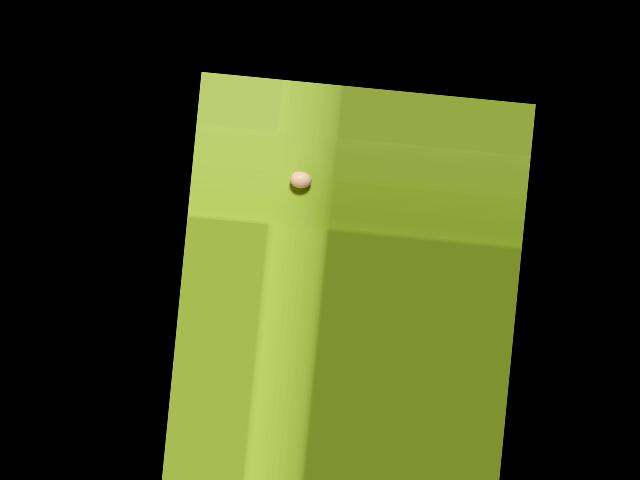egg: (289, 171, 313, 189)
